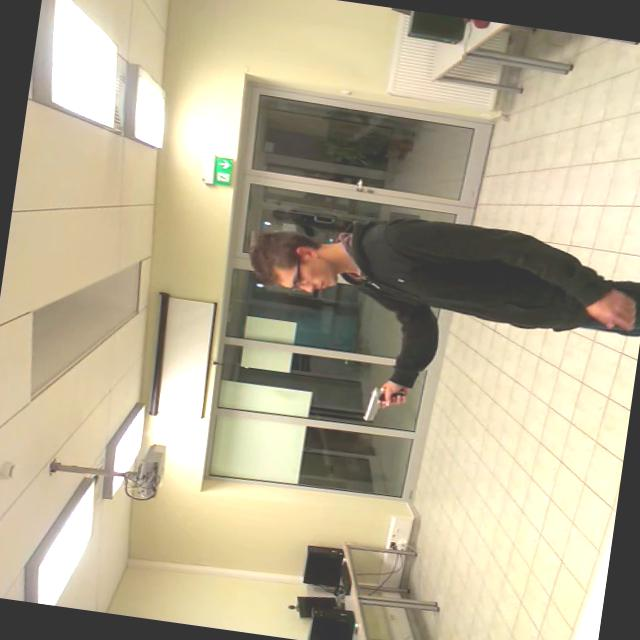handgun: (354, 372, 427, 435)
